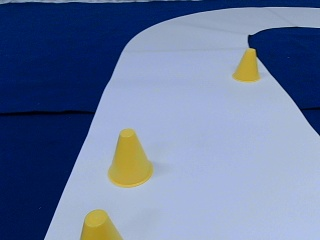cone: (108, 130, 154, 186), (79, 209, 121, 239), (232, 48, 259, 82)
